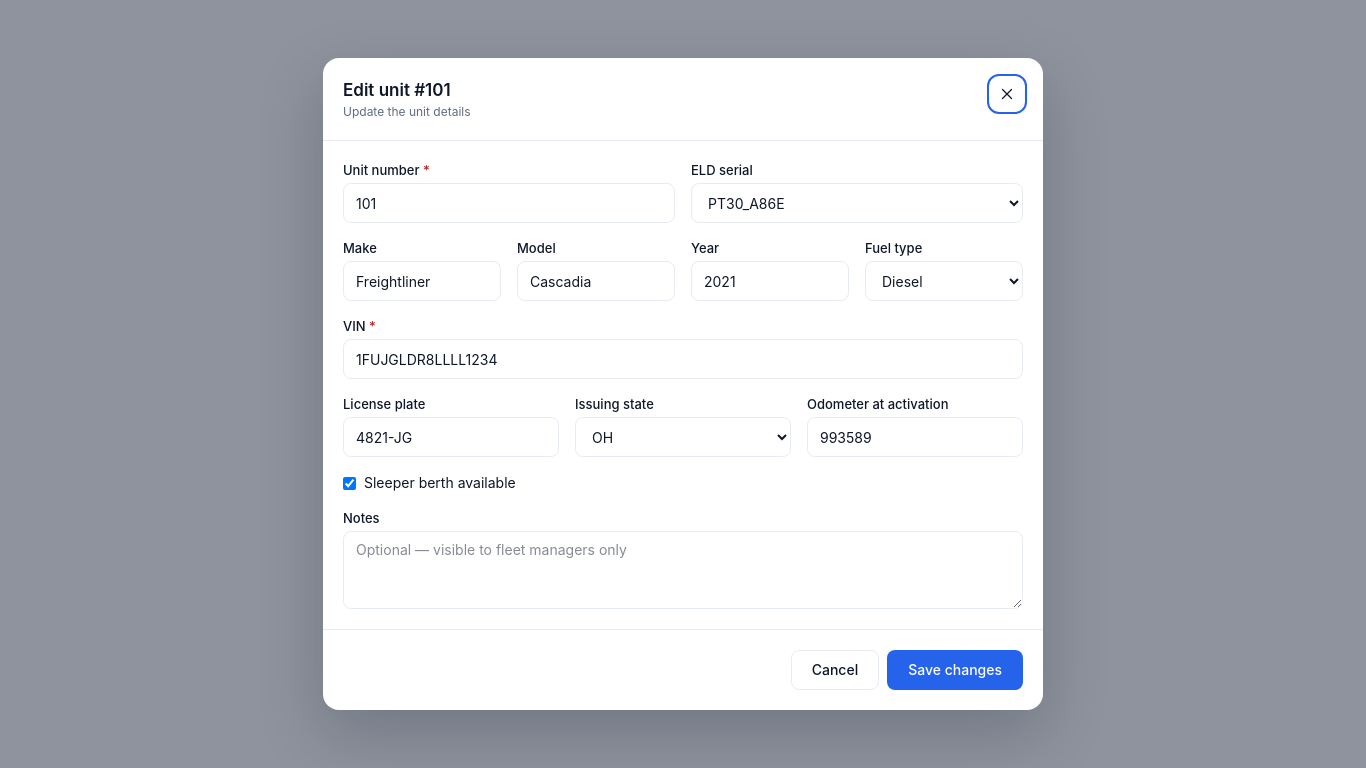
Test: 11.2 Edit unit — duplicate values › pre-checks the cached list case-insensitively, excluding the unit being edited
Replace the text in the field labelled "Unit number *" with "a7" at [509, 203], box [343,183,675,223]
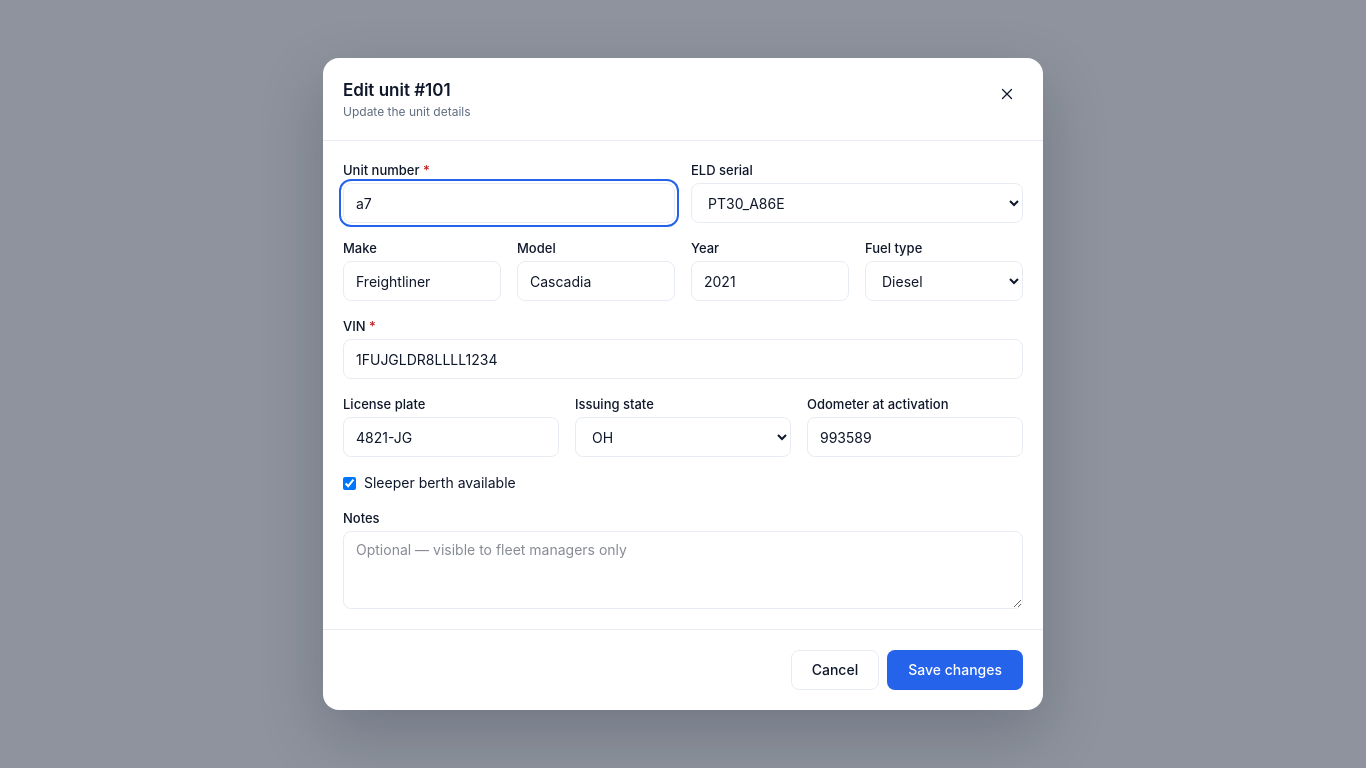
Click the button "Save changes" at [955, 670], box [887,650,1023,690]
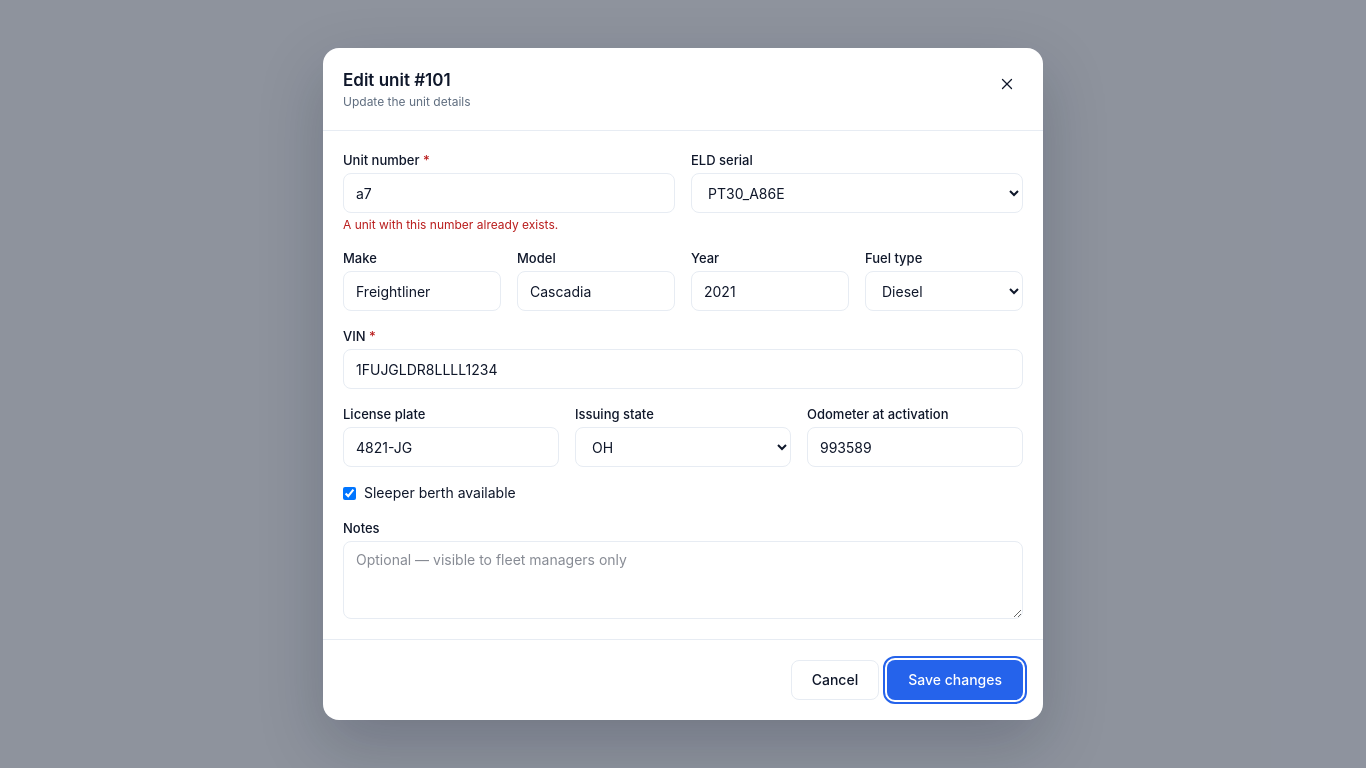
Expected: the text "A unit with this number already exists." is shown, [343,217,558,232]
